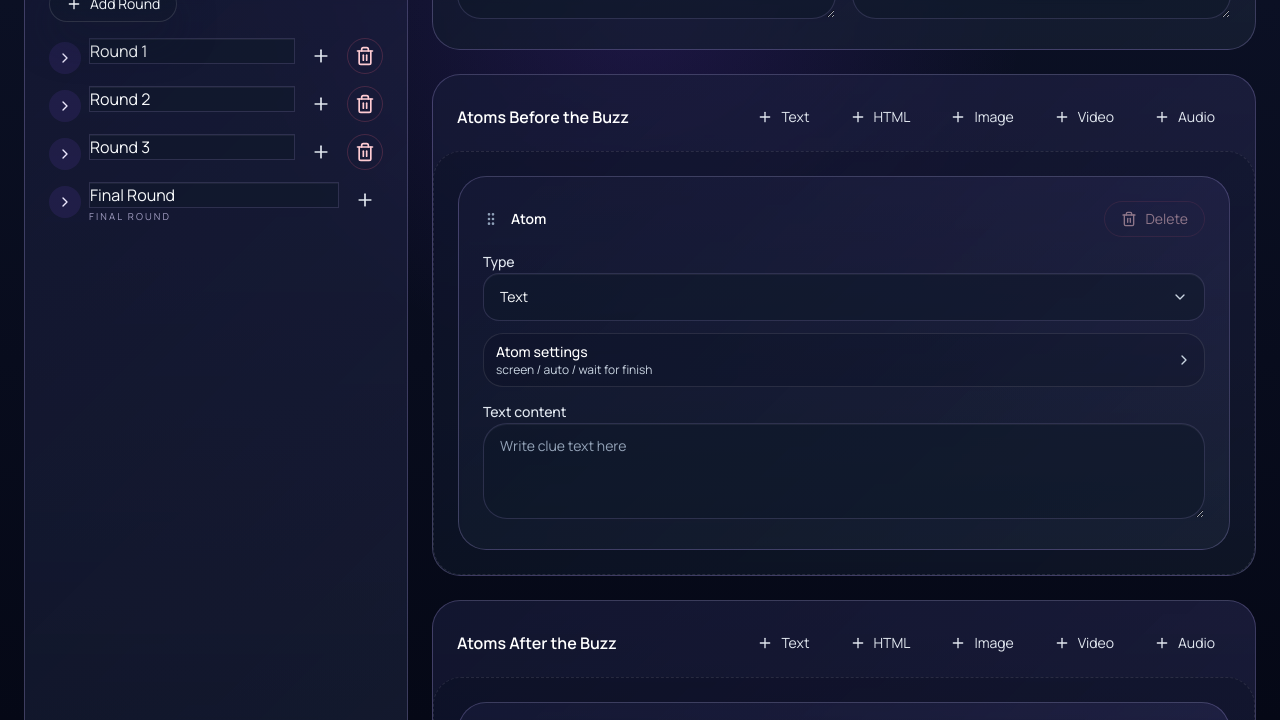
Test: CreatePackEditor › keeps atom settings collapsed by default and opens them on demand
The width and height of the screenshot is (1280, 720).
(page scrolled)
Check: the text "Placement" is not shown
Check: the text "Duration (seconds)" is not shown
Click the button "Atom settings screen / auto / wait for finish". click: point(542, 352)
box: x1=484 y1=334 x2=1204 y2=386
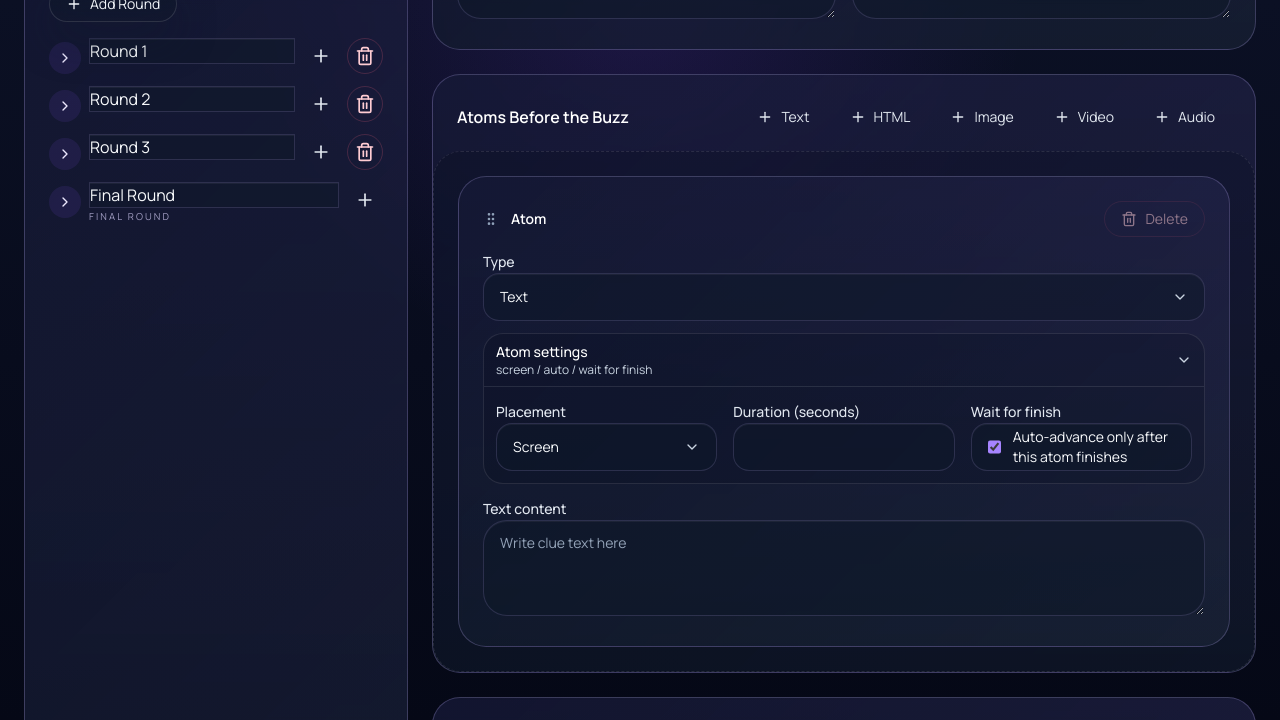
Check: the text "Placement" is shown, box x1=496 y1=402 x2=566 y2=421
Check: the text "Duration (seconds)" is shown, box x1=733 y1=402 x2=860 y2=421
Check: the text "Wait for finish" is shown, box x1=971 y1=402 x2=1061 y2=421
